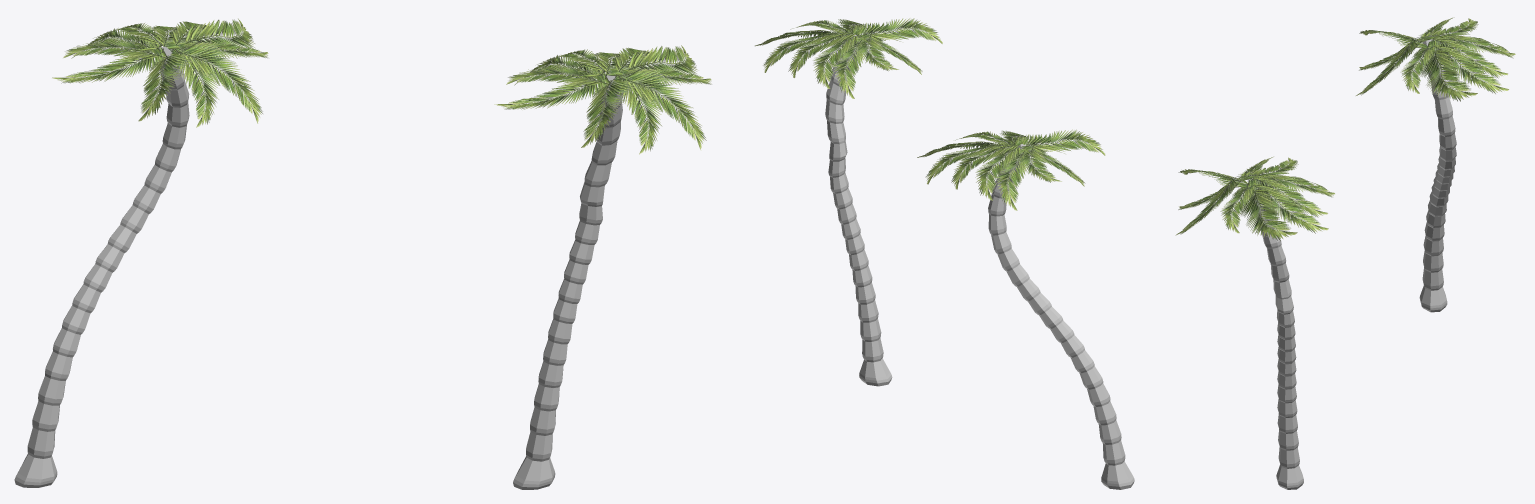
The model's file is coconut tree 2 (1).fbx.
The picture shows the model from 3 angles, left to right: view 1: azimuth 30°, elevation 25°; view 2: azimuth 150°, elevation 25°; view 3: azimuth 270°, elevation 25°; orthographic projection. The views are drawn at different scales.
Parts seen in each view (by area): view 1: Plane.009, Plane.001, stem, stem.001; view 2: stem, Plane.009, Plane.001, stem.001; view 3: Plane.001, Plane.009, stem.001, stem.
Boxes of the visible parts, x1,y1,x2,y2 form: Plane.009: [52, 18, 268, 127]; Plane.001: [494, 45, 711, 154]; stem: [14, 46, 189, 487]; stem.001: [513, 71, 622, 489]; stem: [988, 144, 1134, 489]; Plane.009: [917, 129, 1105, 210]; Plane.001: [755, 18, 942, 98]; stem.001: [825, 33, 892, 386]; Plane.001: [1175, 156, 1334, 240]; Plane.009: [1356, 17, 1515, 101]; stem.001: [1247, 182, 1303, 489]; stem: [1419, 39, 1456, 312].
Bounding box in the file's own units: 1160 × 839 × 788.
